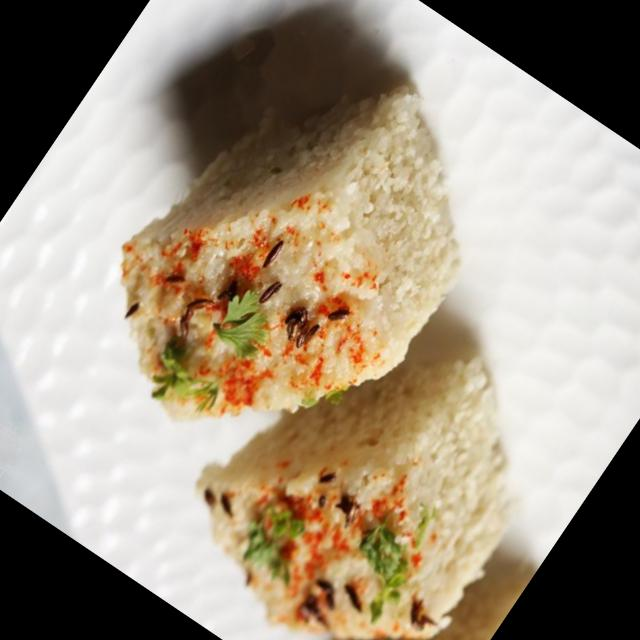dhokla: (62, 26, 507, 492), (139, 295, 597, 640)
